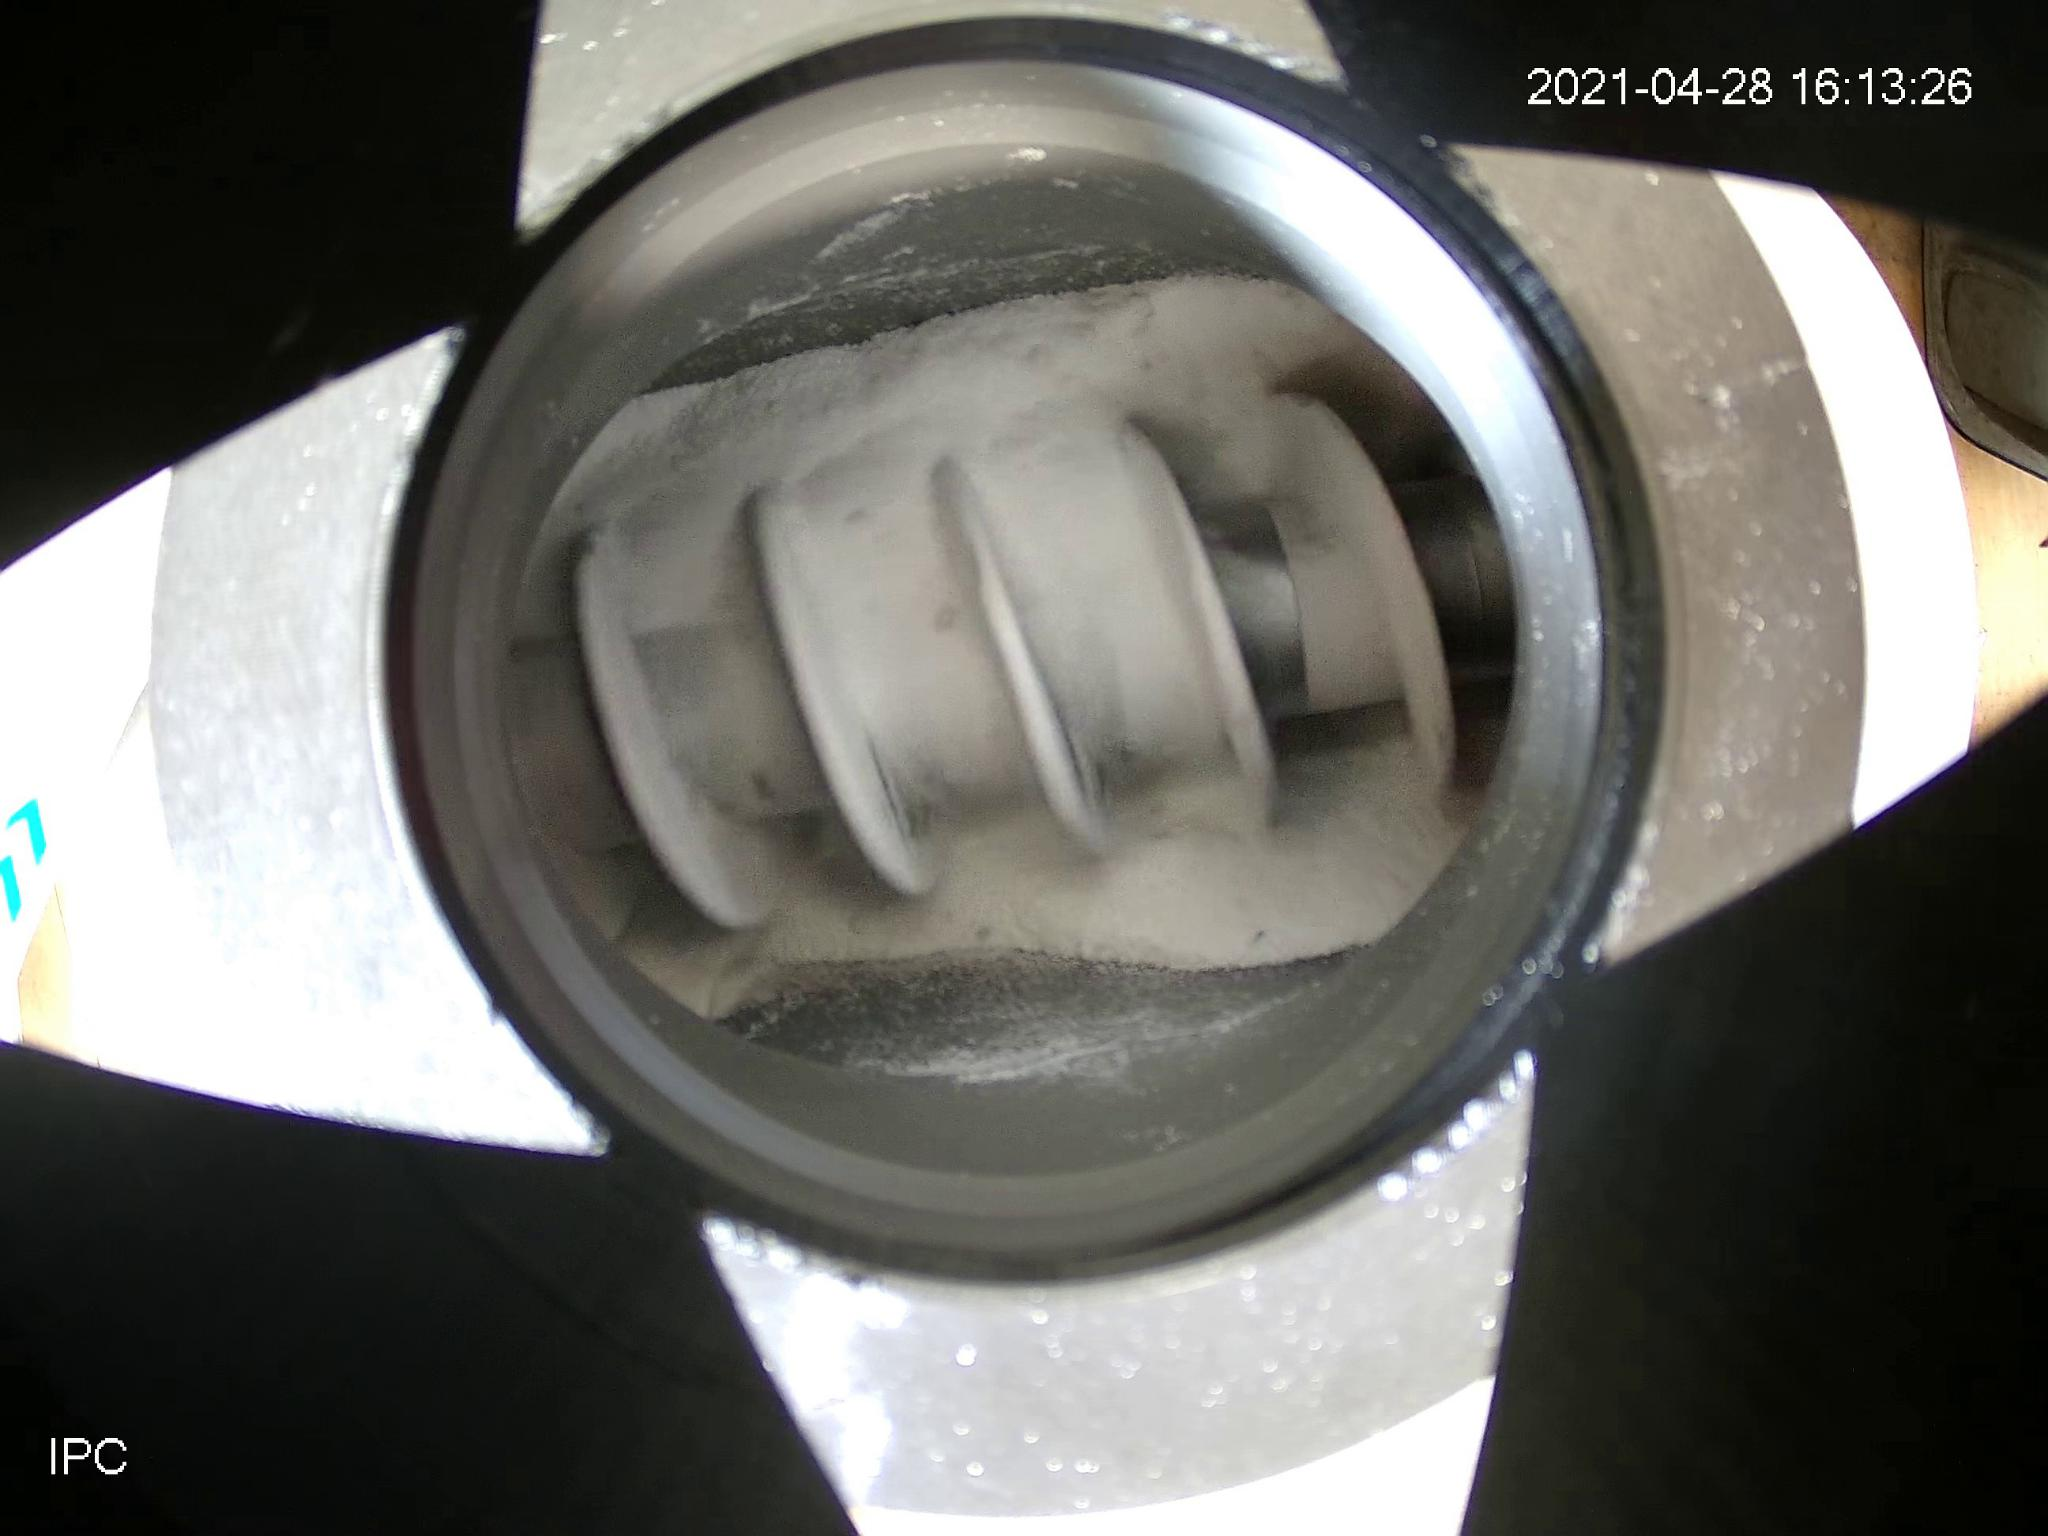stone: (1126, 292, 1151, 316), (930, 607, 953, 629), (1027, 345, 1047, 371), (669, 453, 700, 470), (1074, 319, 1095, 340), (845, 508, 868, 523), (974, 925, 987, 937)
